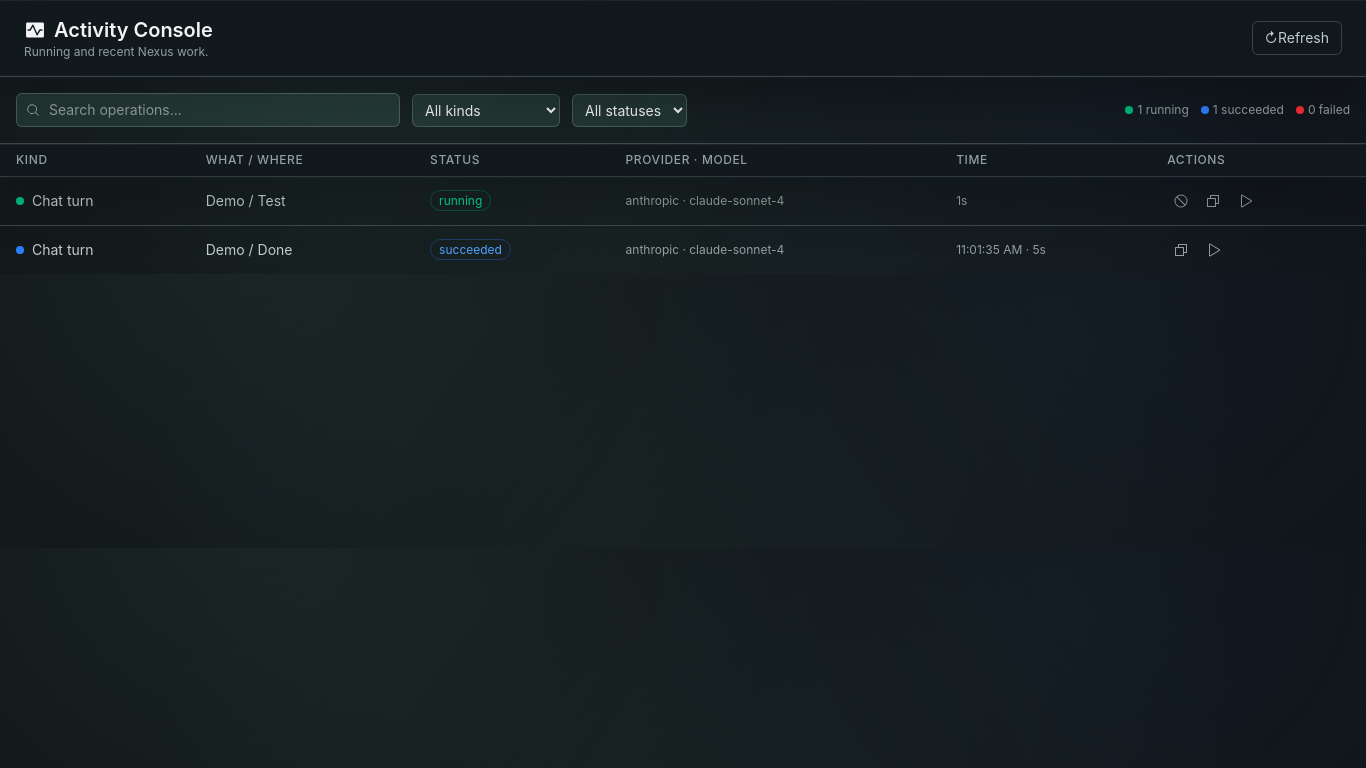
Test case: ActivityConsole › filters by status
Select "Failed" in the 2nd dropdown showing "All statuses" at (630, 110), box [572, 94, 687, 126]
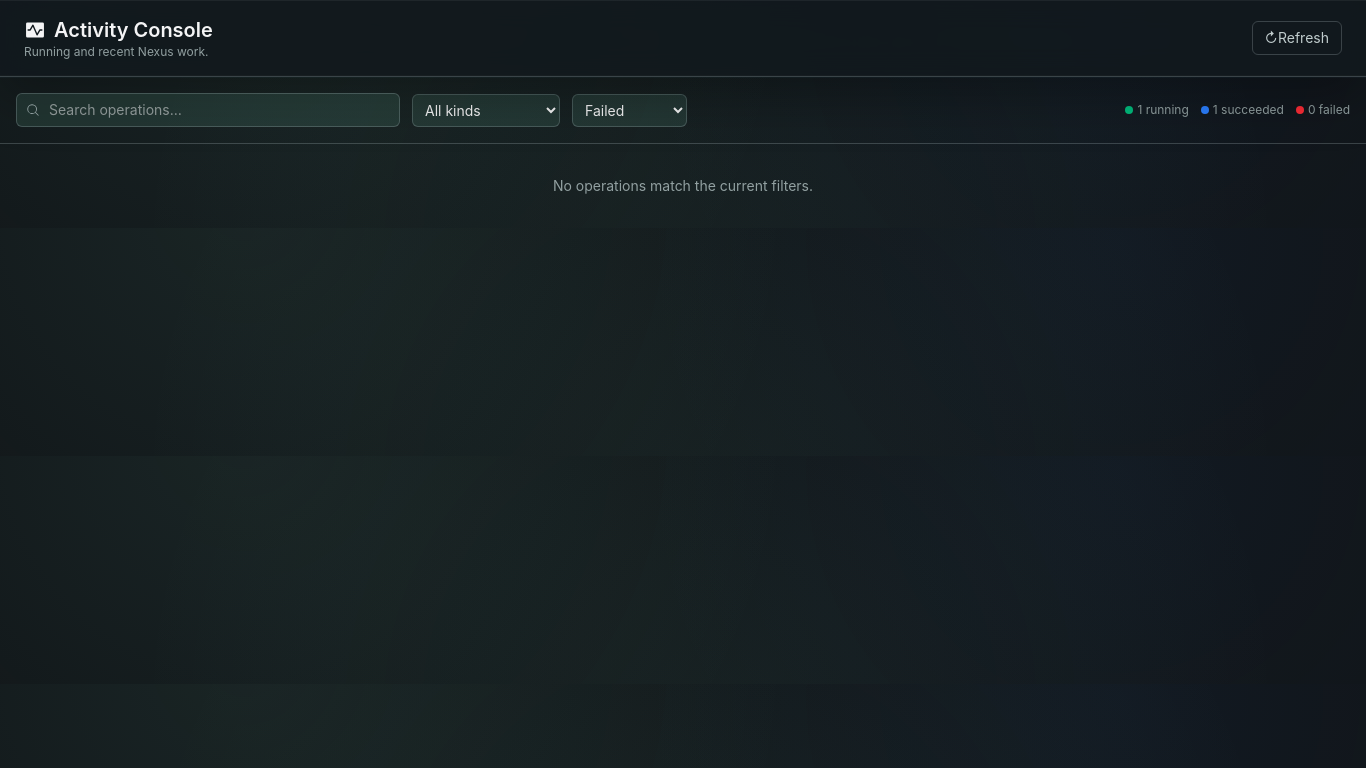
Check: the text "Demo / Test" is gone
Check: the text "Demo / Done" is gone
Check: the text "No operations match the current filters." is shown, box [553, 177, 813, 194]
